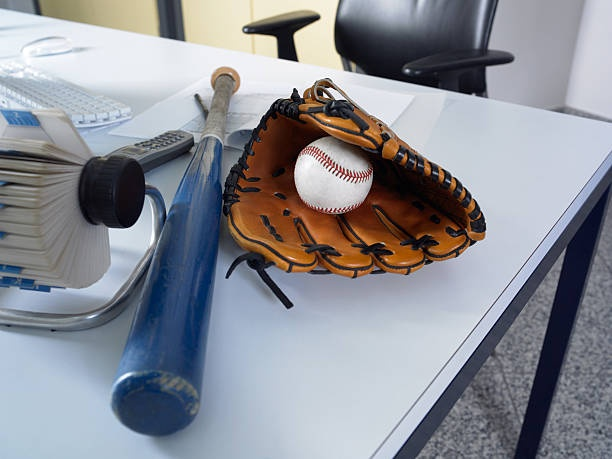bita: (115, 65, 236, 434)
